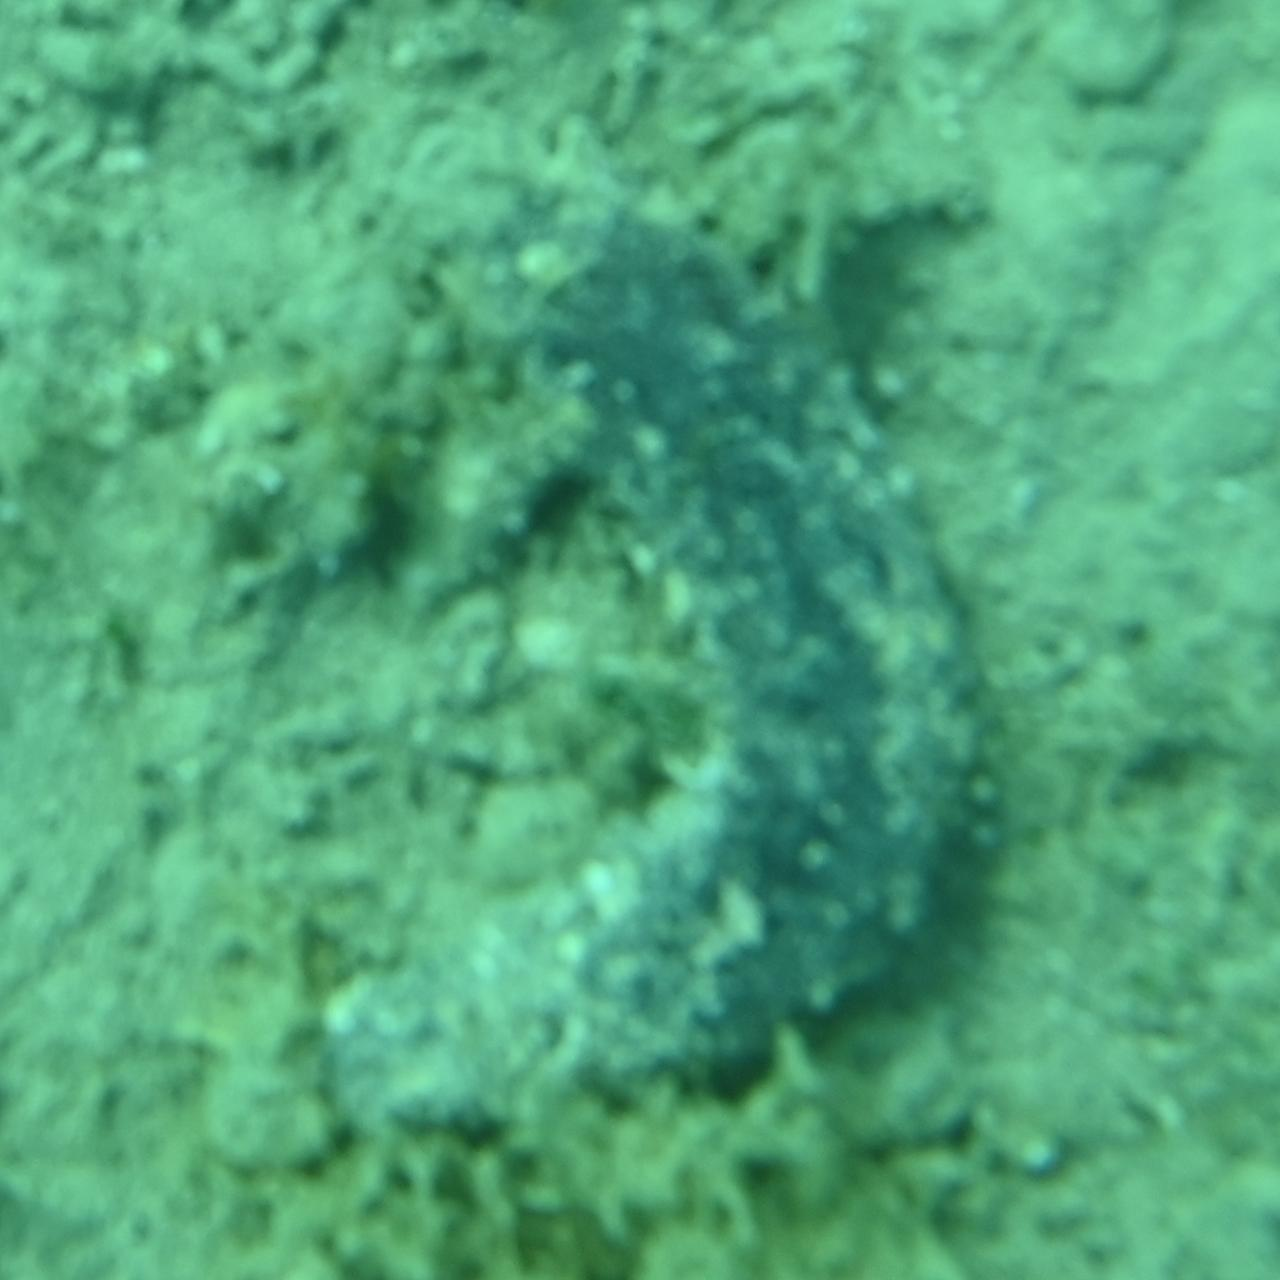Holothuria tubulosa: (288, 123, 992, 1157)
